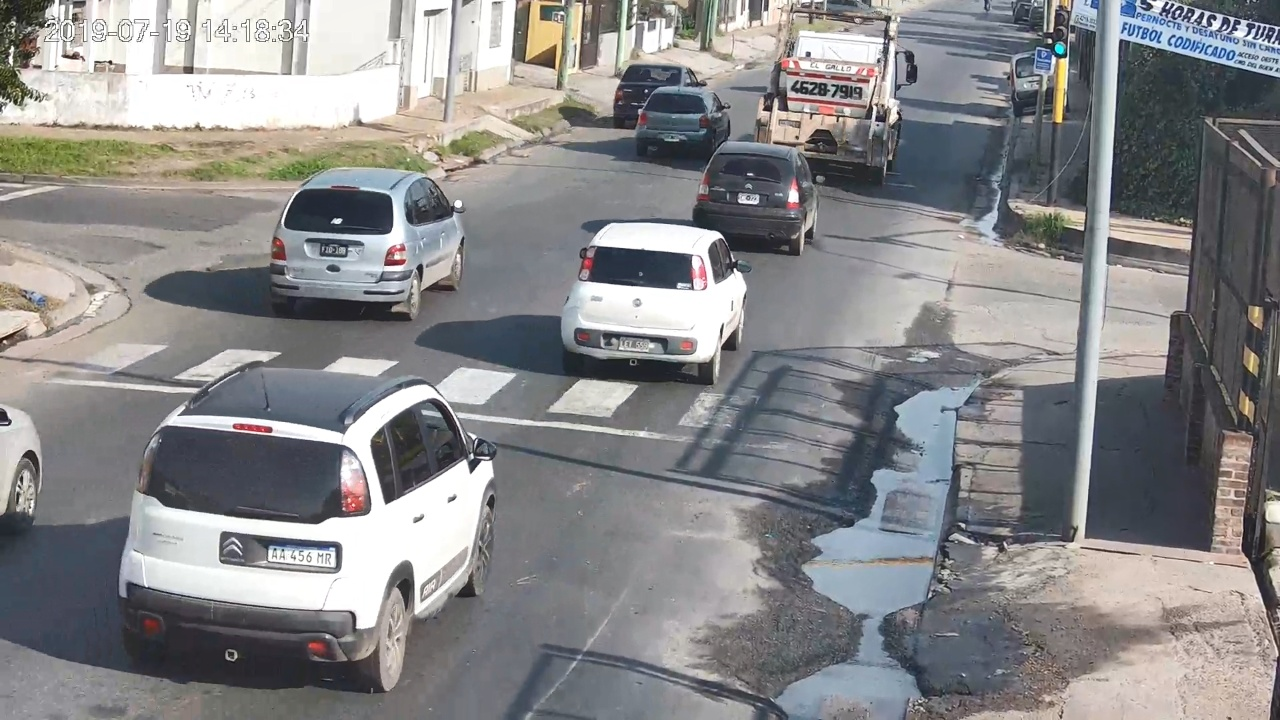car: (117, 362, 499, 694), (561, 221, 752, 384), (270, 167, 467, 320), (1, 400, 42, 540)
traffic light: (1054, 12, 1068, 57)
